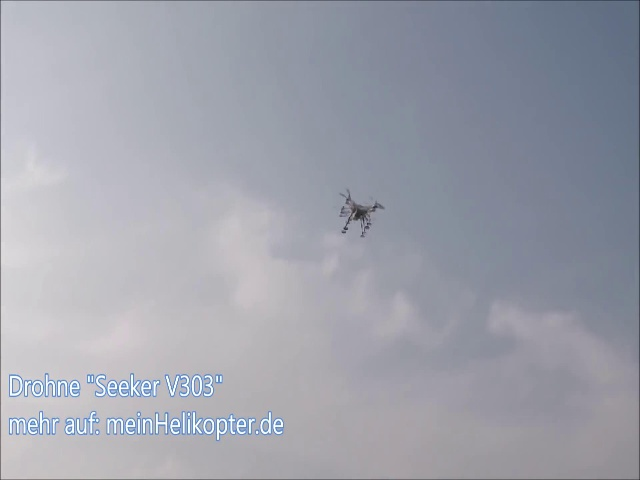drone: (335, 188, 386, 238)
